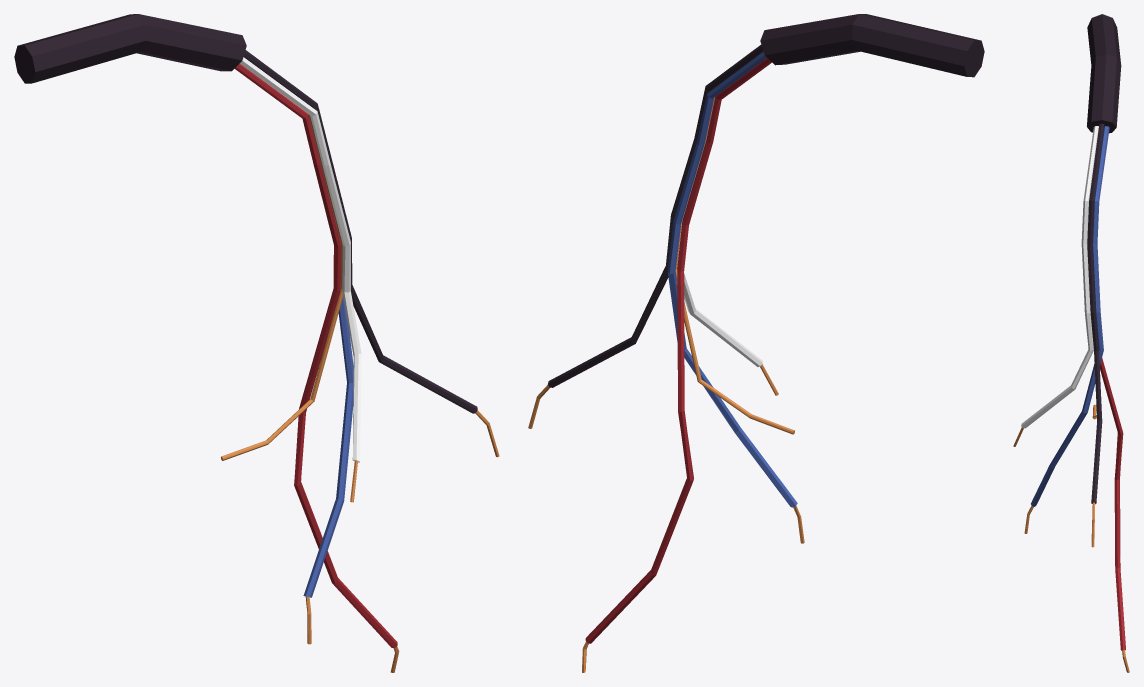
Rendered from Wires1.fbx.
The picture shows the model from 3 angles, left to right: view 1: azimuth 30°, elevation 25°; view 2: azimuth 150°, elevation 25°; view 3: azimuth 270°, elevation 25°; orthographic projection. The views are drawn at different scales.
Visible parts, largest first — view 1: Wires1; view 2: Wires1; view 3: Wires1.
Boxes of the visible parts, x1,y1,x2,y2 form: Wires1: [14, 14, 499, 672]; Wires1: [528, 14, 984, 672]; Wires1: [1013, 14, 1129, 672].
Size of the model in its own units: 189 by 284 by 57.17.
